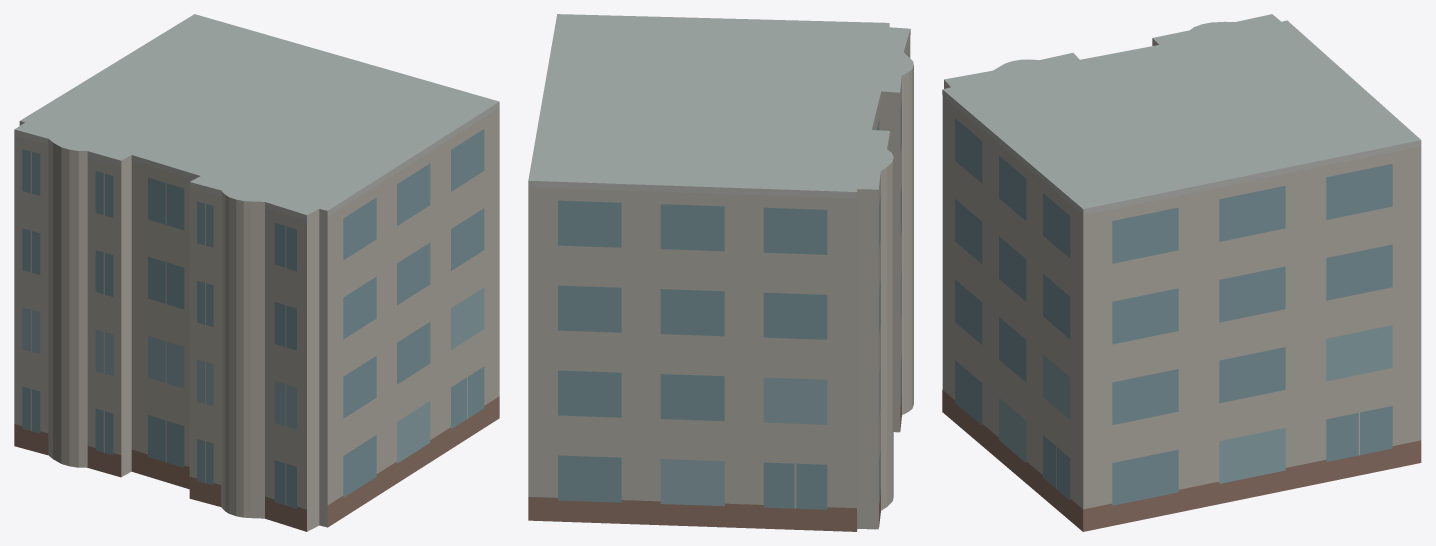
The model's file is survey-upis-33012049.glb.
The picture shows the model from 3 angles, left to right: view 1: azimuth 30°, elevation 25°; view 2: azimuth 150°, elevation 25°; view 3: azimuth 270°, elevation 25°; orthographic projection. The views are drawn at different scales.
Parts seen in each view (by area): view 1: survey-upis-33012049.tmp; view 2: survey-upis-33012049.tmp; view 3: survey-upis-33012049.tmp.
Boxes of the visible parts, left/top/right/bottom form: survey-upis-33012049.tmp: left=14, top=14, right=499, bottom=531; survey-upis-33012049.tmp: left=528, top=14, right=913, bottom=531; survey-upis-33012049.tmp: left=942, top=14, right=1421, bottom=531.
Size of the model in its own units: 16.87 by 13 by 17.49.
